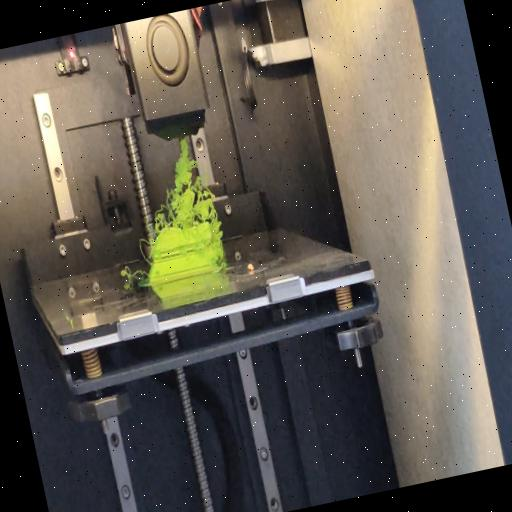spaghetti: (136, 134, 224, 236), (210, 223, 234, 272), (118, 262, 150, 284), (136, 235, 154, 264)
